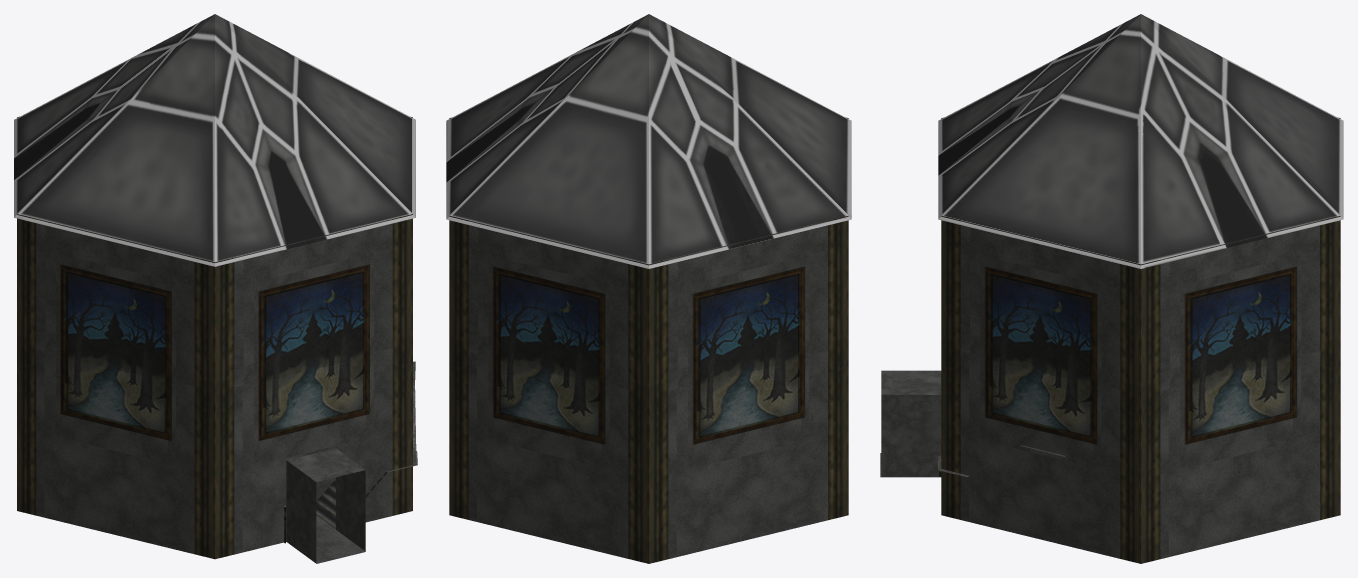
The picture shows the model from 3 angles, left to right: view 1: azimuth 30°, elevation 25°; view 2: azimuth 150°, elevation 25°; view 3: azimuth 270°, elevation 25°; orthographic projection.
Visible parts, largest first — view 1: Wall_Floor, Roof, pPlane3; view 2: Wall_Floor, Roof; view 3: Wall_Floor, Roof.
Boxes of the visible parts, left/top/right/bottom form: Wall_Floor: left=17, top=116, right=412, bottom=563; Roof: left=14, top=14, right=415, bottom=266; pPlane3: left=316, top=451, right=417, bottom=528; Wall_Floor: left=449, top=117, right=848, bottom=563; Roof: left=446, top=14, right=851, bottom=268; Wall_Floor: left=880, top=117, right=1340, bottom=563; Roof: left=938, top=14, right=1343, bottom=268.
Size of the model in its own units: 22.44 by 24.74 by 22.21.
8 materials, 8 textured.
